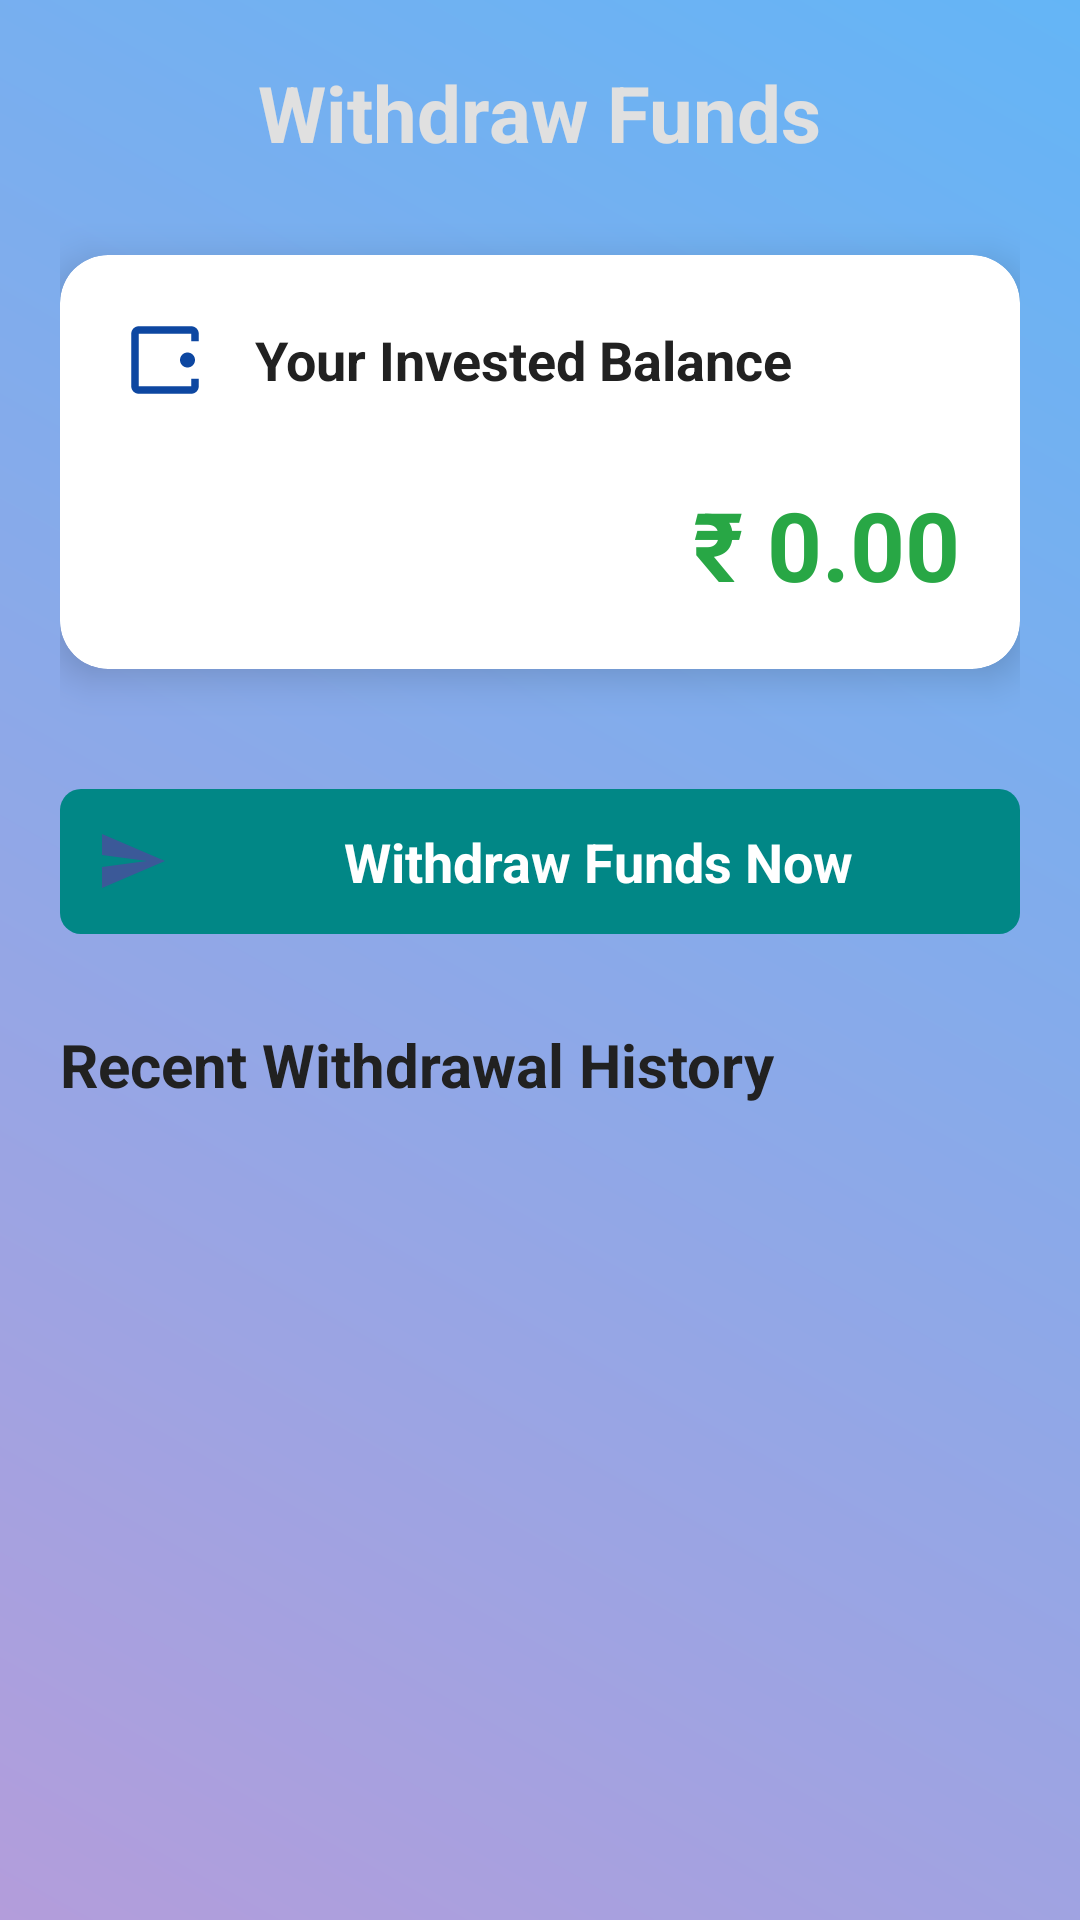

Named icons in this screenshot (1080 × 1920) and their centers, (x,y):
Invested Wallet: (165,360)
